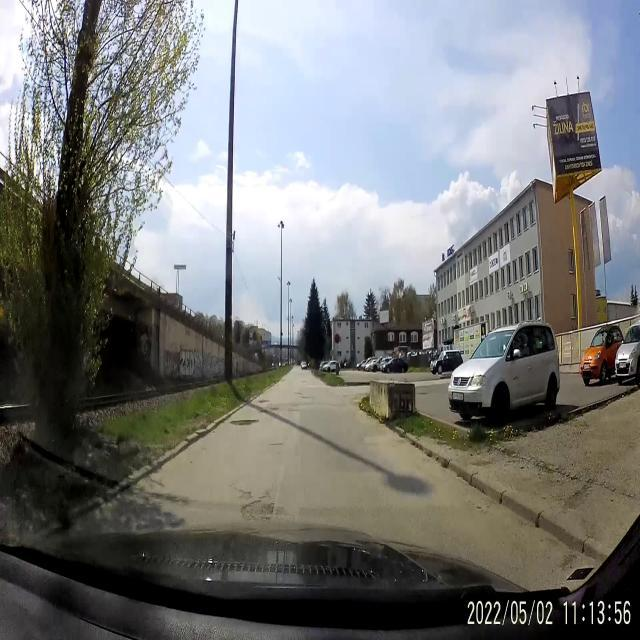Pothole: (240, 500, 278, 526), (230, 414, 260, 432), (237, 488, 255, 500), (268, 440, 286, 448), (256, 398, 270, 406), (287, 407, 301, 415), (270, 405, 280, 413)
